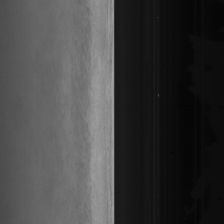silk_spot: (75, 65, 94, 172)
